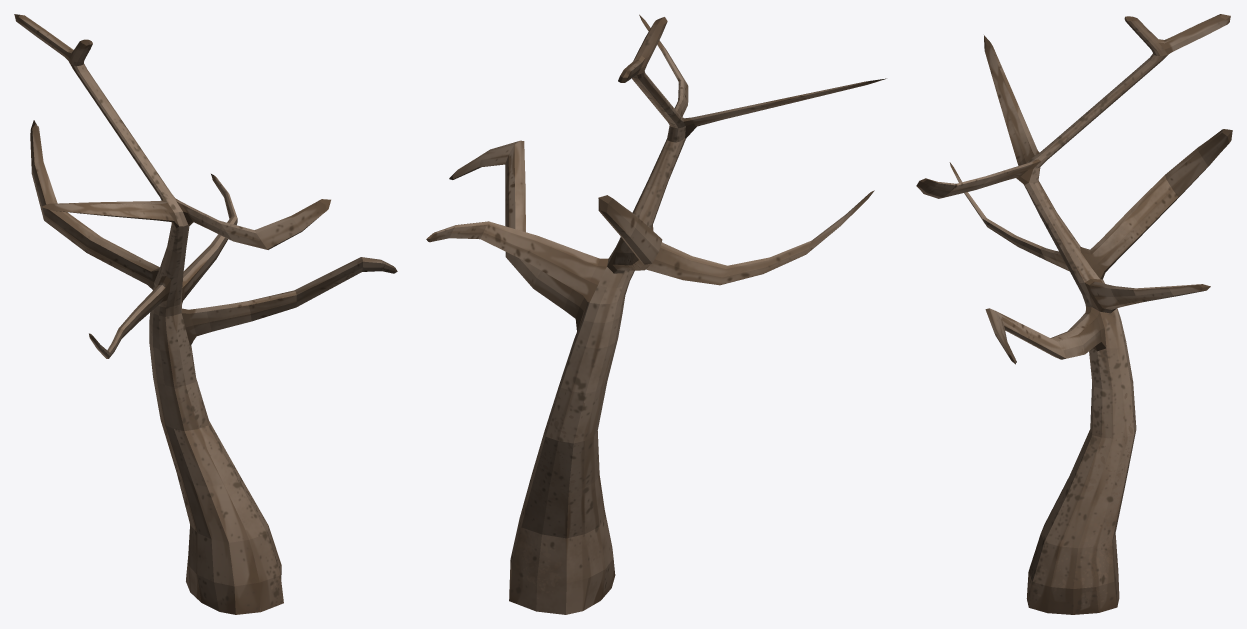
File: Tree (3).fbx
3 renders of one model, left to right at view 1: azimuth 30°, elevation 25°; view 2: azimuth 150°, elevation 25°; view 3: azimuth 270°, elevation 25°, orthographic. The views are drawn at different scales.
Parts seen in each view (by area): view 1: Tree; view 2: Tree; view 3: Tree.
Part boxes in pixels (x1,y1,x2,y2): Tree: [14, 14, 397, 614]; Tree: [426, 14, 886, 614]; Tree: [916, 14, 1232, 614].
Bounding box in the file's own units: 10.72 × 15.56 × 8.35.
